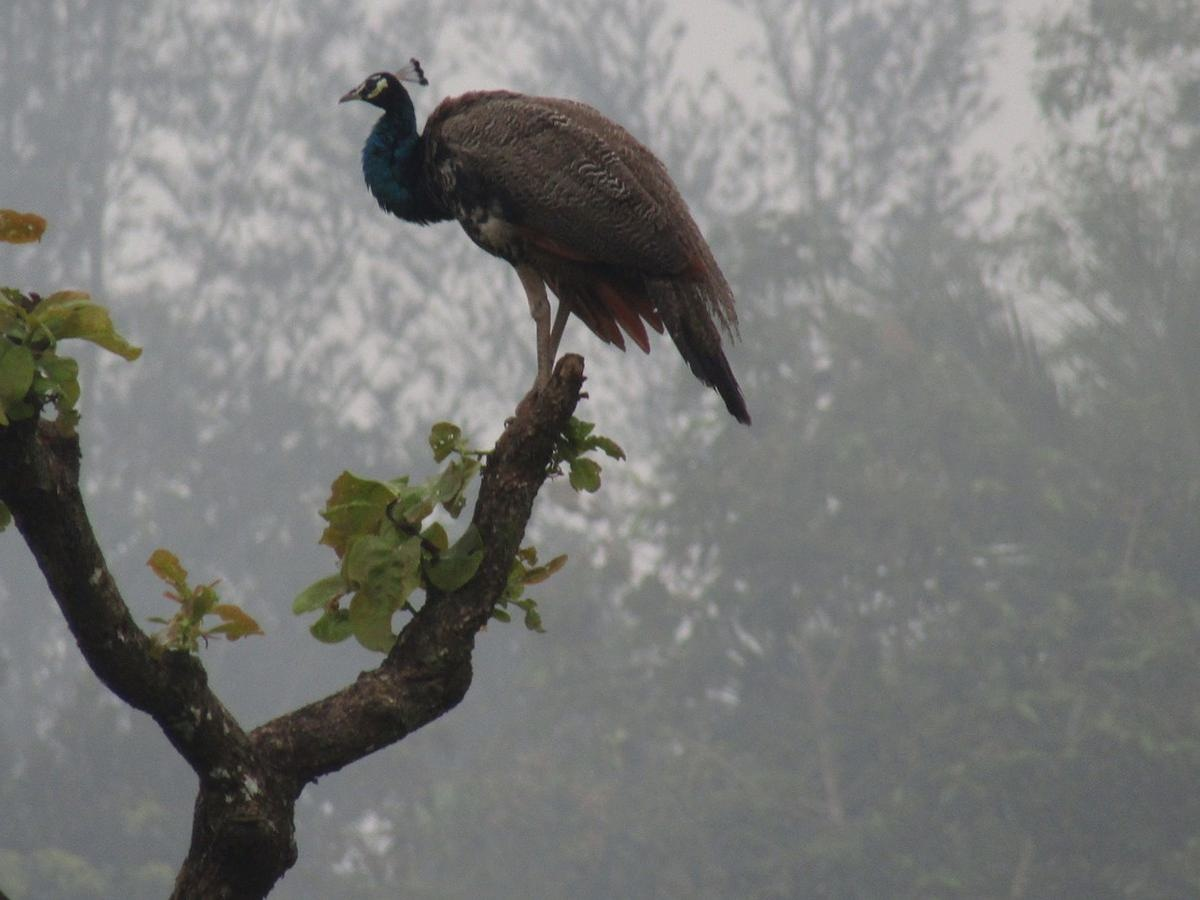peacock: (325, 47, 834, 406)
